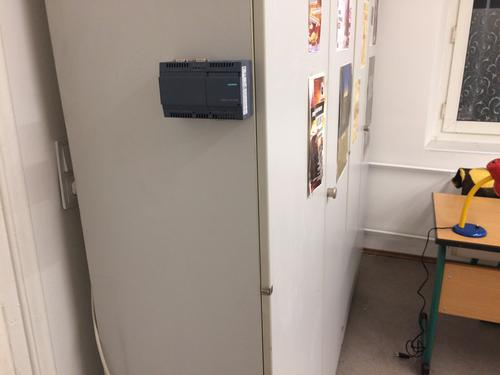iot2000: (157, 57, 253, 121)
